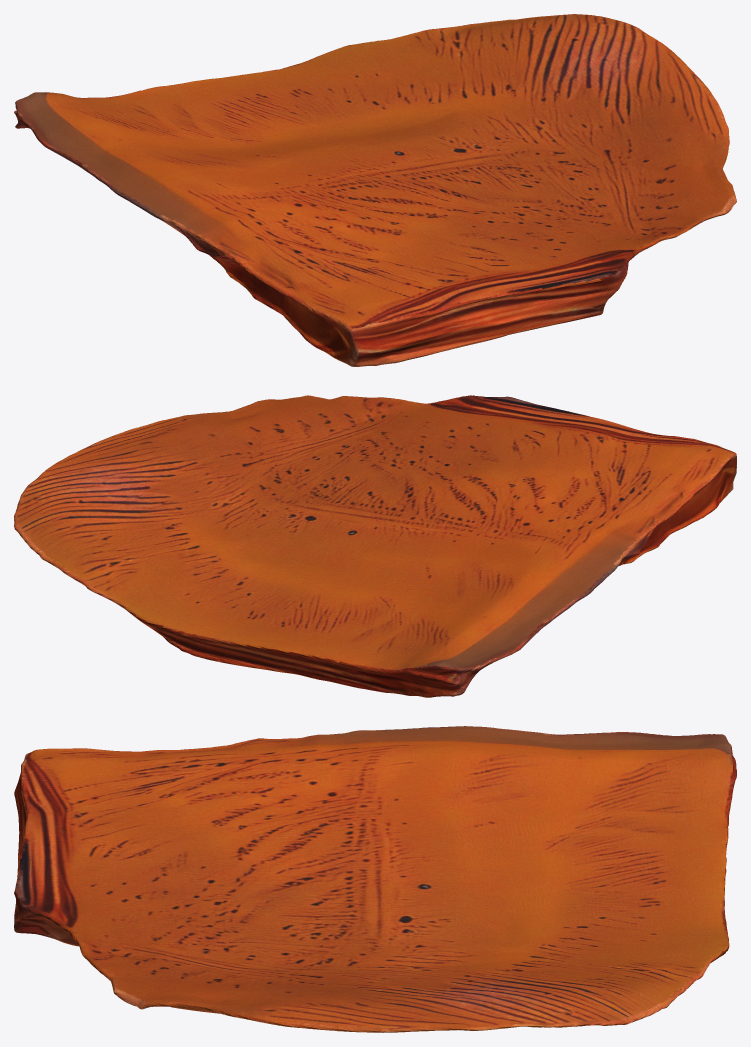
Rendered from image_0000_segmented.glb.
The picture shows the model from 3 angles, top to bottom: view 1: azimuth 30°, elevation 25°; view 2: azimuth 150°, elevation 25°; view 3: azimuth 270°, elevation 25°; orthographic projection. The views are drawn at different scales.
Parts seen in each view (by area): view 1: tmpi9bnhs2e.ply; view 2: tmpi9bnhs2e.ply; view 3: tmpi9bnhs2e.ply.
Boxes of the visible parts, left/top/right/bottom form: tmpi9bnhs2e.ply: left=14, top=14, right=736, bottom=366; tmpi9bnhs2e.ply: left=14, top=395, right=736, bottom=697; tmpi9bnhs2e.ply: left=14, top=726, right=736, bottom=1032.
Bounding box in the file's own units: 1.99 × 0.2532 × 2.
Materials: 1 (1 with a texture image).
